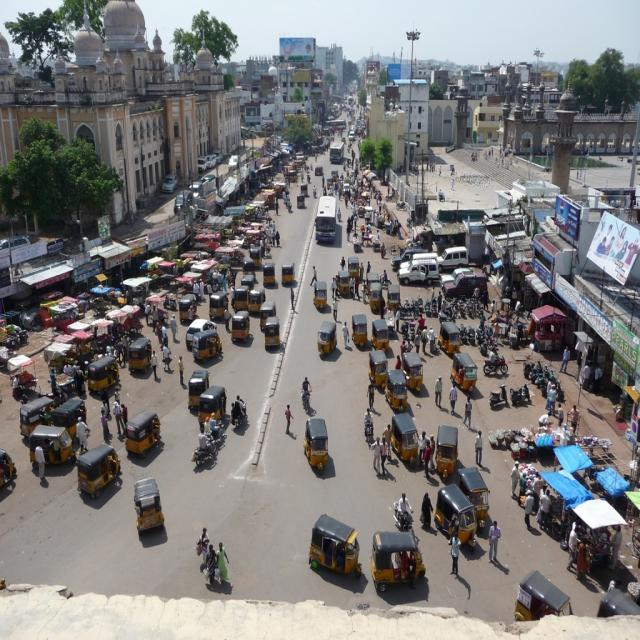car: (398, 256, 440, 284), (160, 173, 176, 193), (313, 163, 323, 175)
